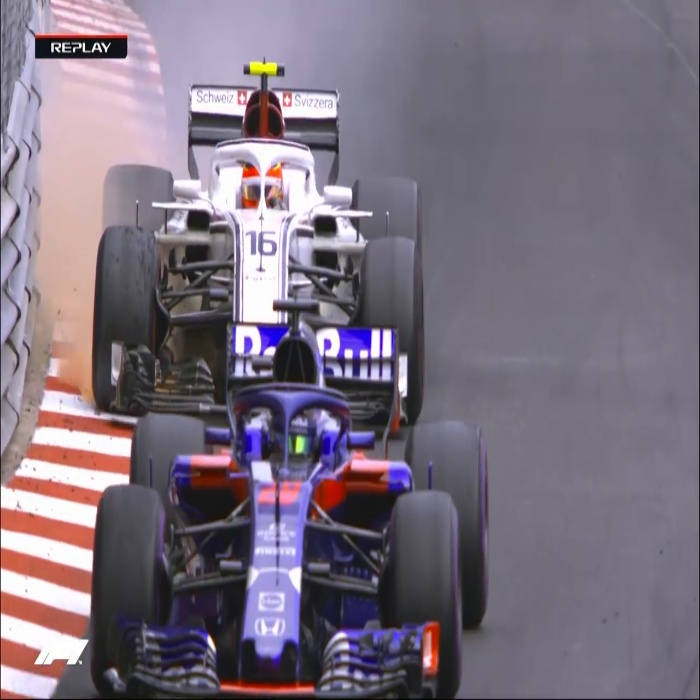f1_car: (86, 312, 505, 700), (91, 54, 436, 411)
